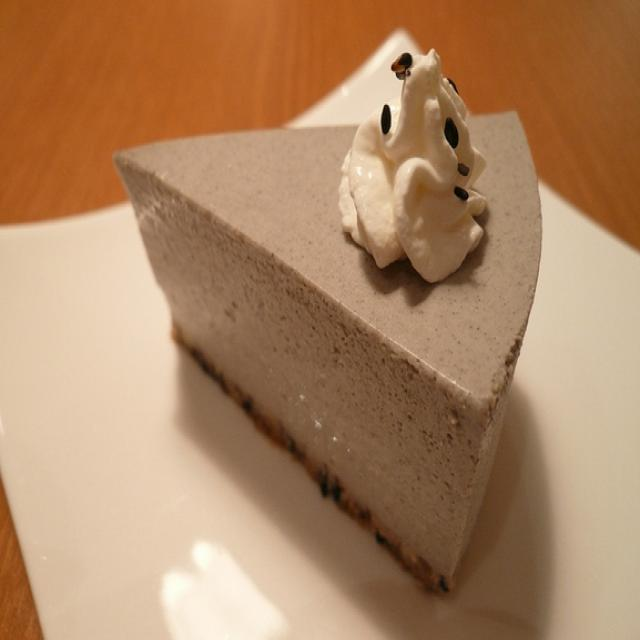Rare cheese cake: (101, 59, 568, 600)
